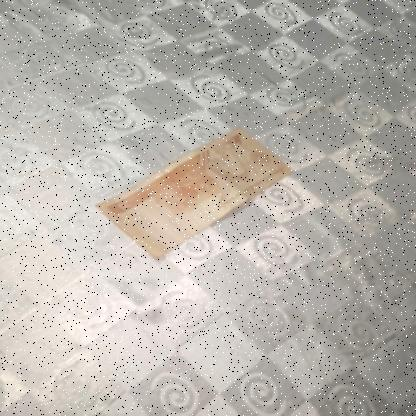twenty-back-vef: (94, 124, 295, 261)
